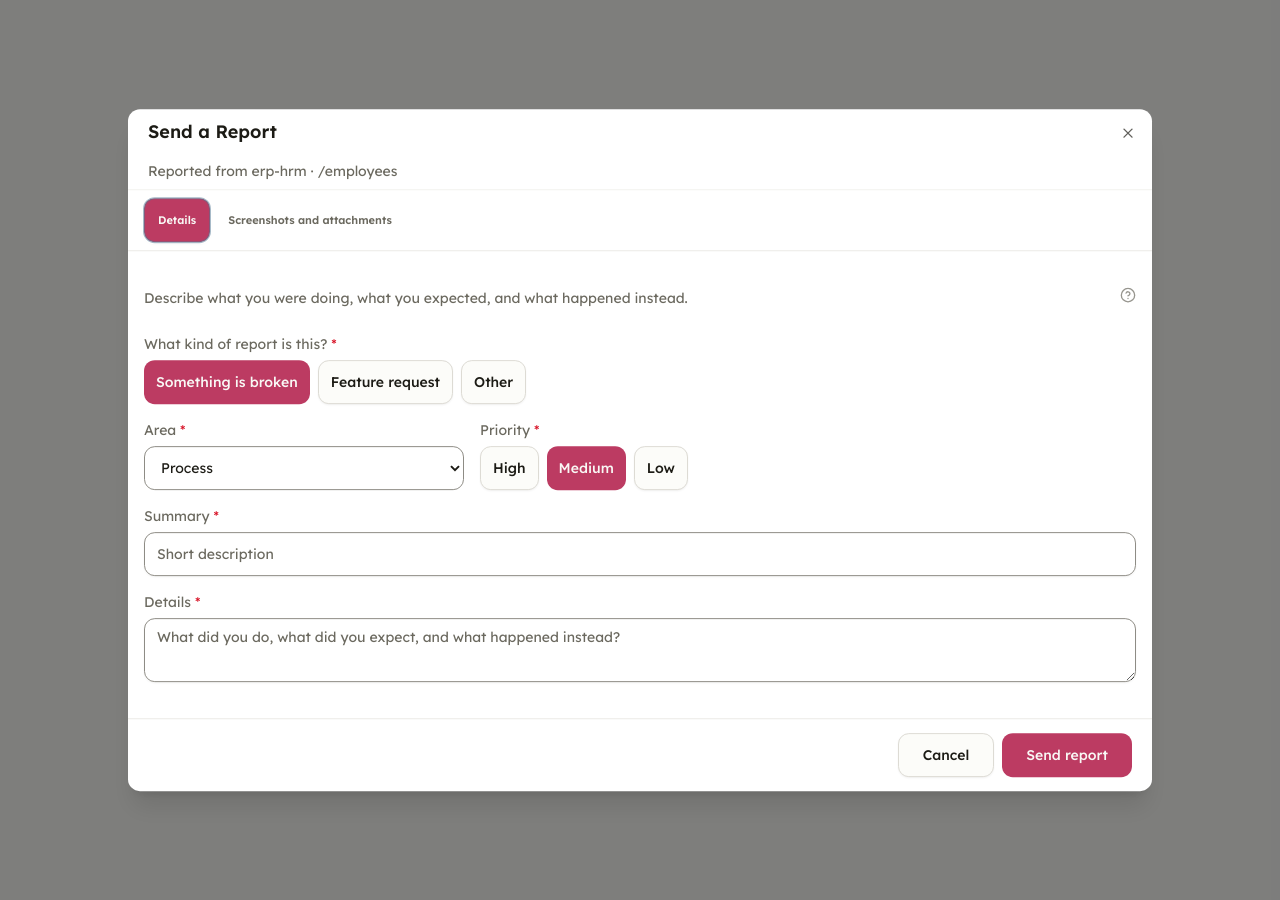
Test: ReportDialog › keeps the form and shows the error when sending fails
Step 1. Type "x" into the field named "Summary" → {"x": 640, "y": 554}, box [144,532,1136,576]
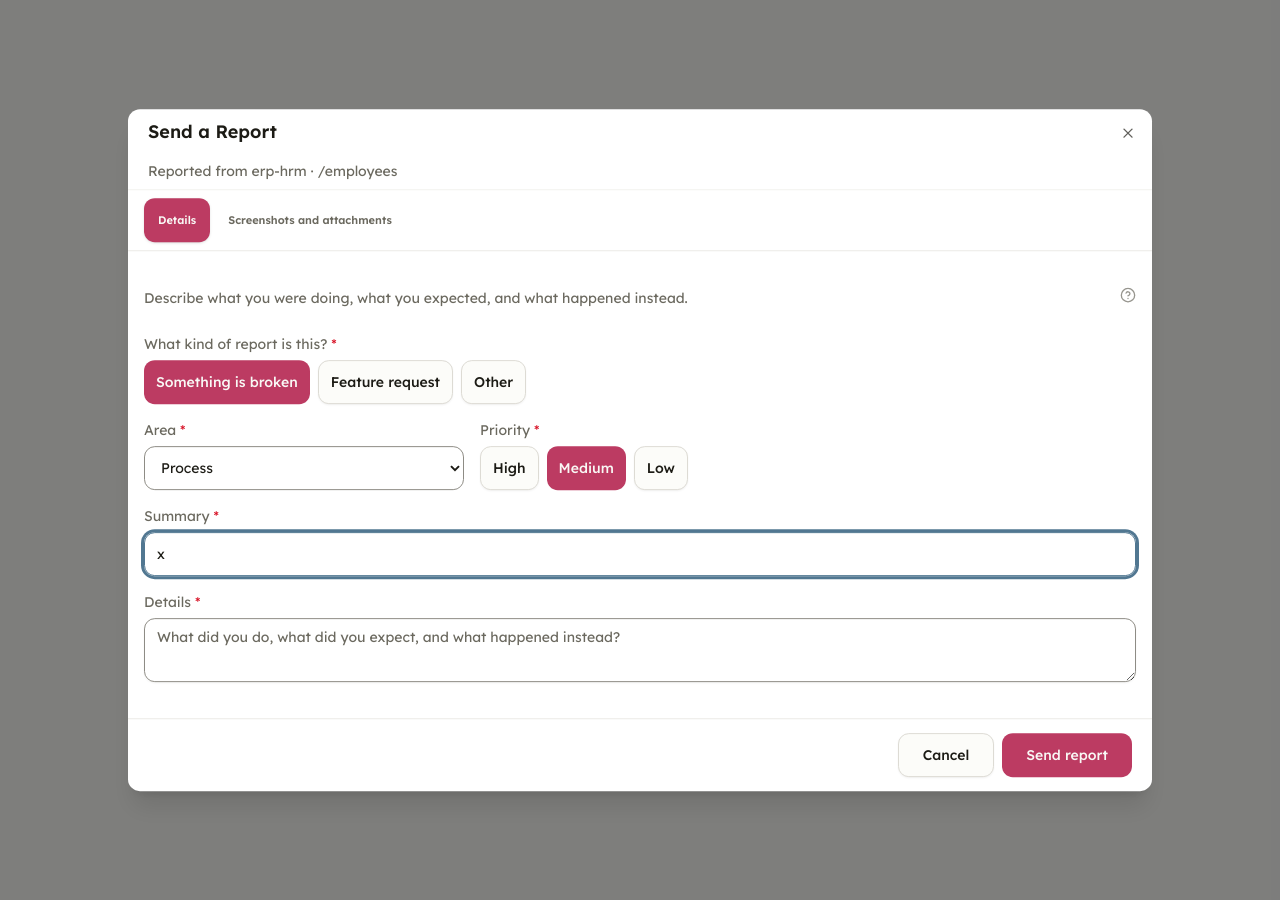
Step 2. Type "y" into the text box named "Details" → {"x": 640, "y": 650}, box [144,618,1136,682]
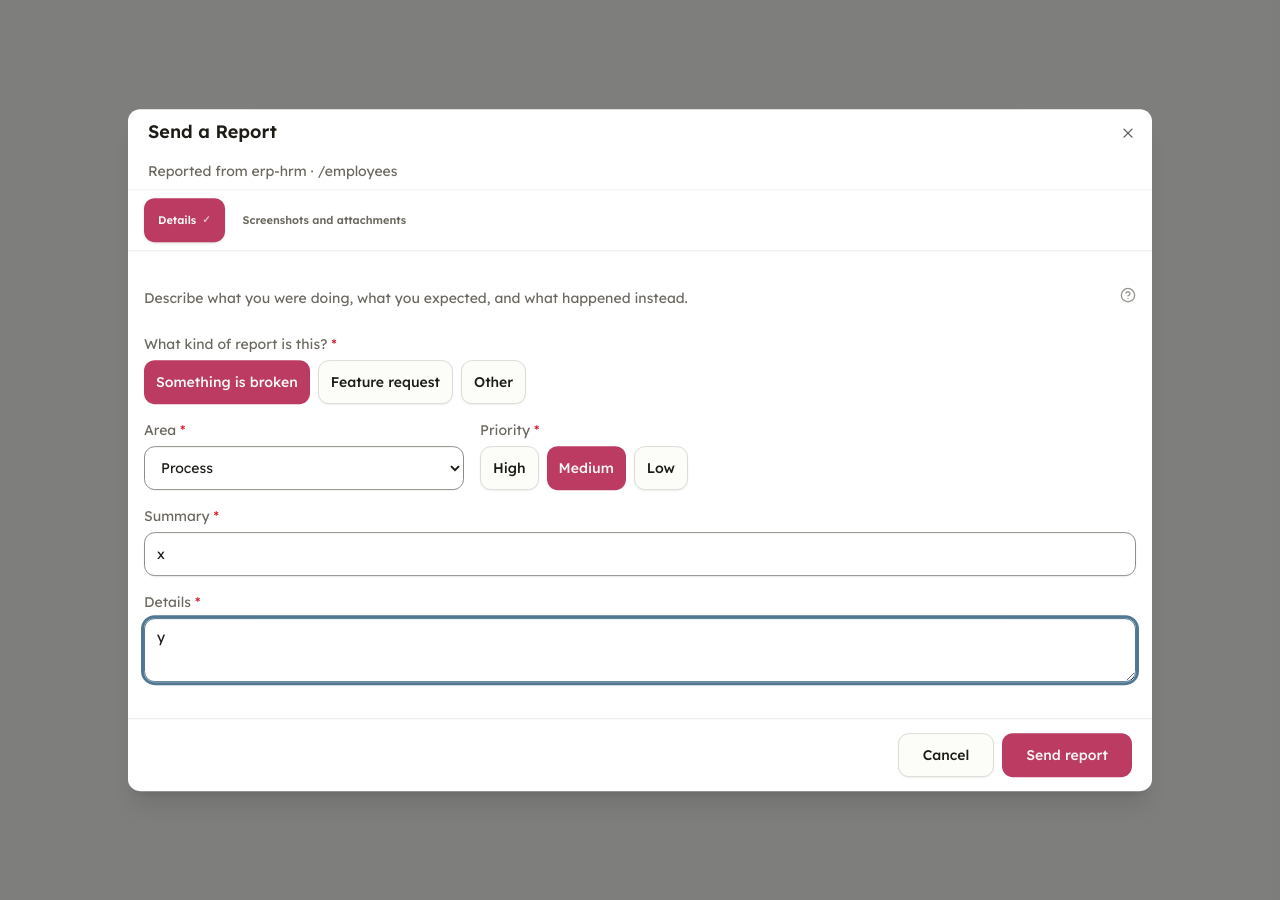
Step 3. Click the button "Send report" → {"x": 1067, "y": 755}, box [1002,733,1132,777]
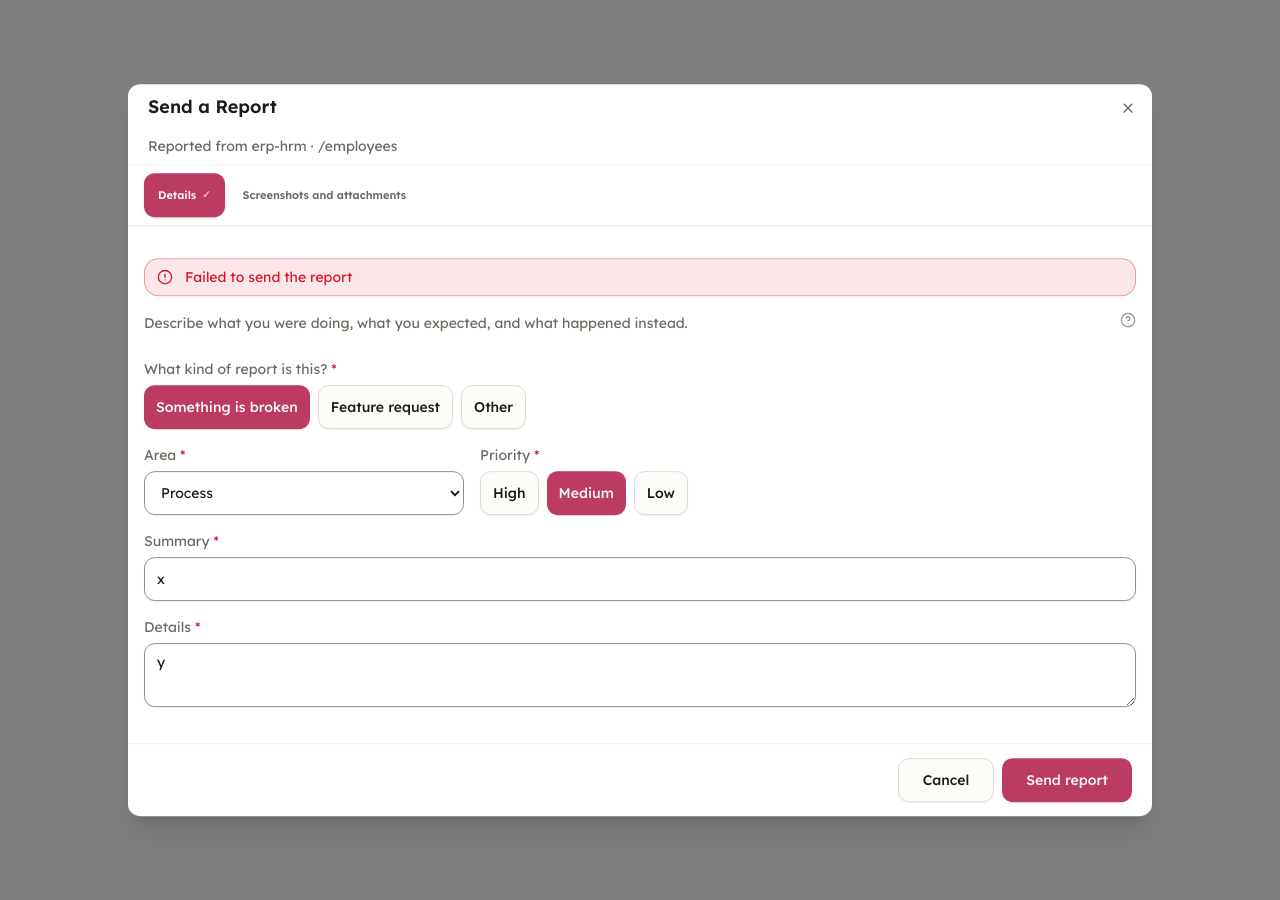
Now the message reads "Failed to send the report", box [185,268,352,286]
